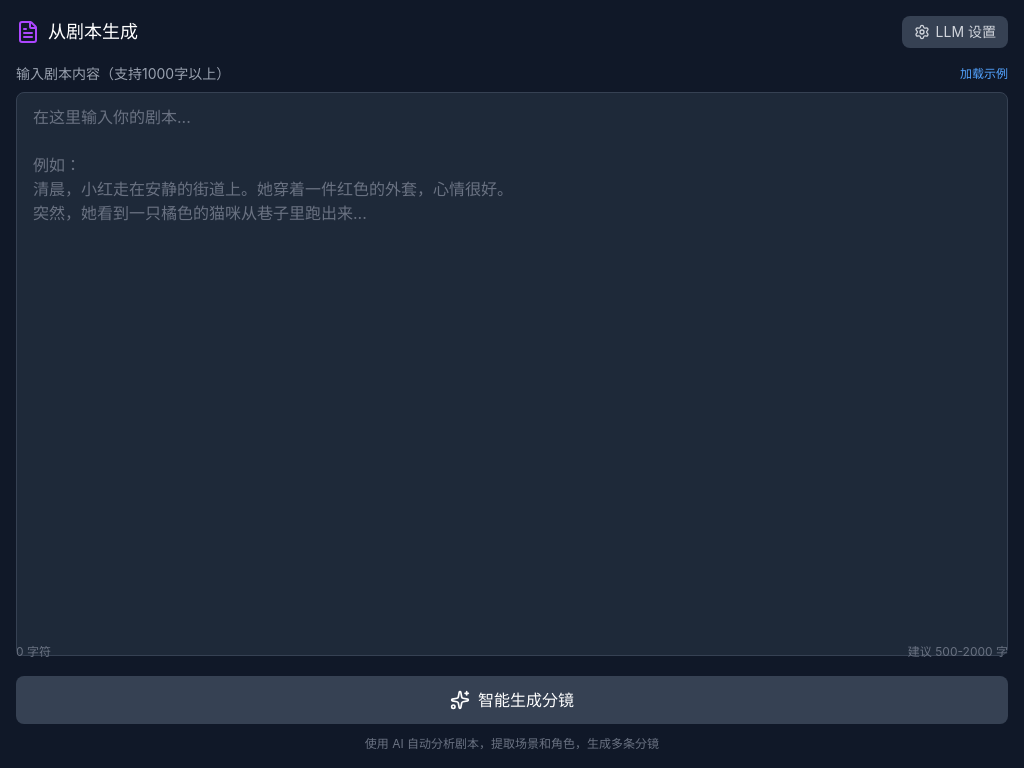
Test case: ScriptToShots Component › 初始状态下生成按钮禁用，点击加载示例后可输入内容
Expected: the button "智能生成分镜" is disabled, [16, 676, 1008, 724]
Click the button "加载示例" at (984, 74), box [960, 66, 1008, 82]
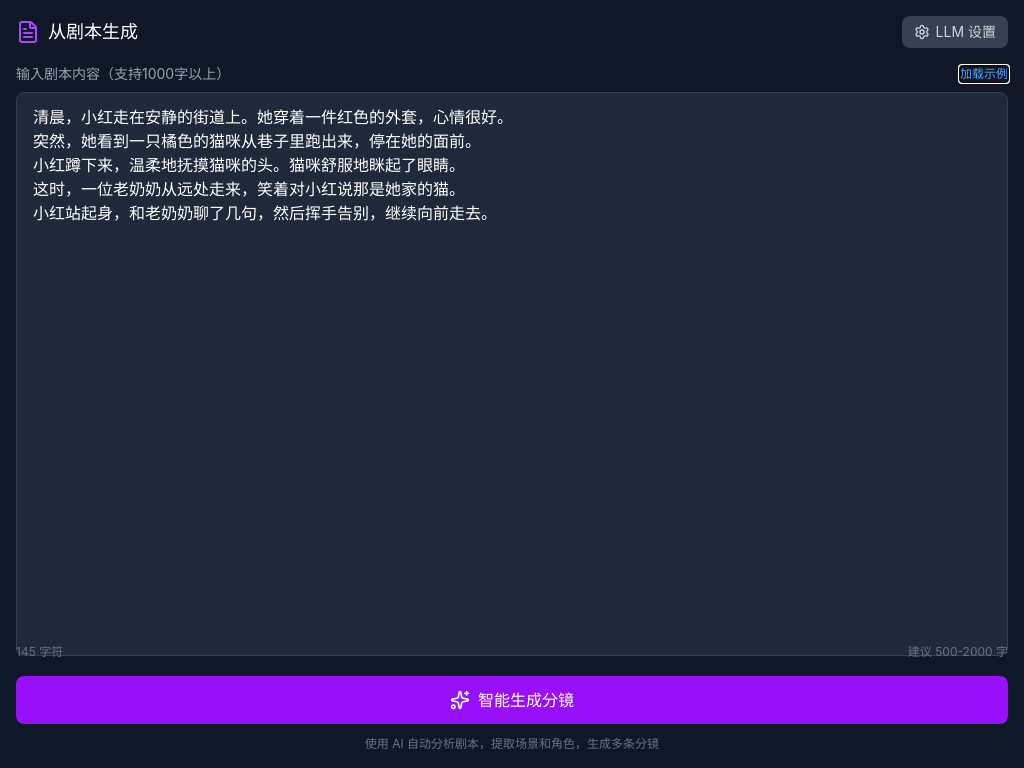
Result: the button "智能生成分镜" is enabled at [16, 676, 1008, 724]
